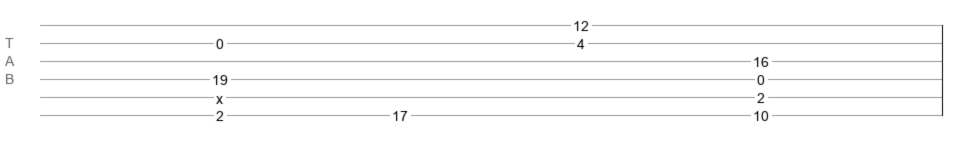0: (216, 36, 224, 46), (757, 72, 765, 82)
10: (753, 108, 769, 118)
12: (573, 18, 589, 28)
16: (753, 54, 769, 64)
17: (392, 108, 408, 118)
19: (212, 72, 228, 82)
2: (216, 108, 224, 118), (757, 90, 765, 100)
4: (577, 36, 585, 46)
x: (216, 91, 223, 99)
